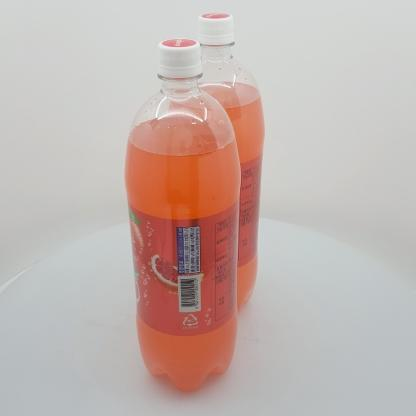--------------: (124, 38, 241, 391)
